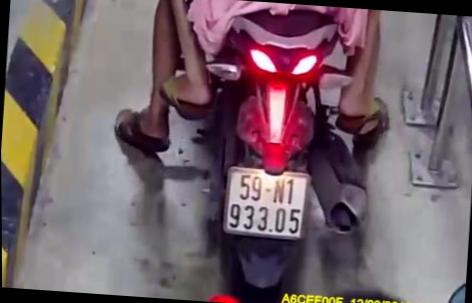LP: (221, 164, 312, 242)
